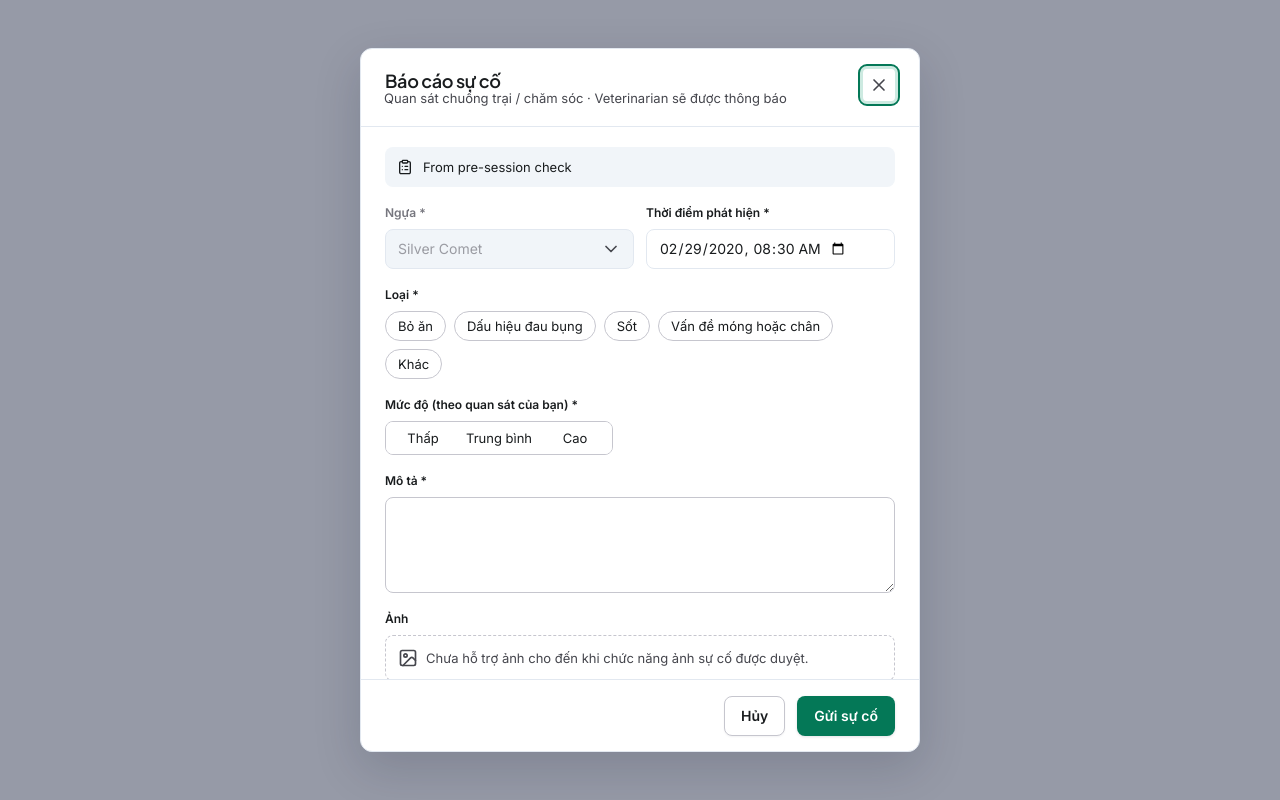
Test case: IncidentReportModal › rejects context ID 0
Click the button "Vấn đề móng hoặc chân" at (746,326), box [658,311,833,341]
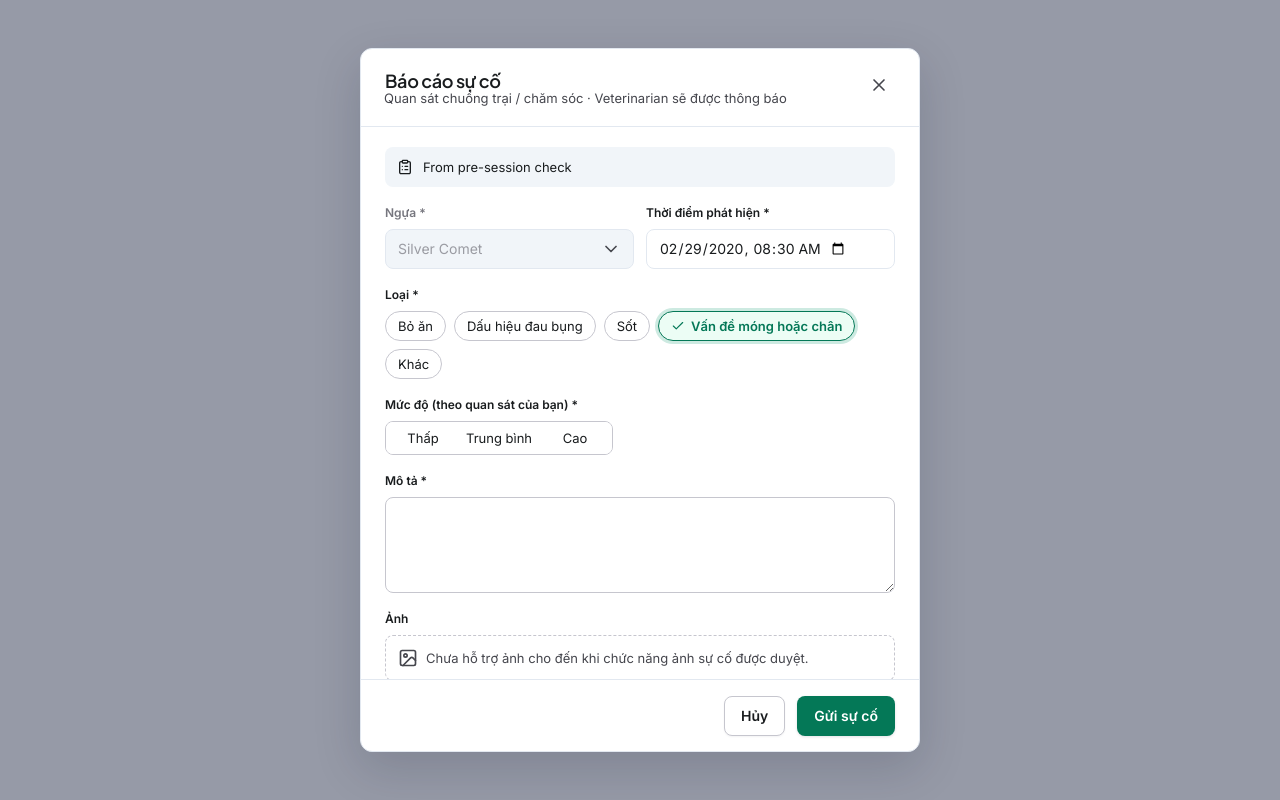
Click the button "Trung bình" at (499,438), box [460,422,538,454]
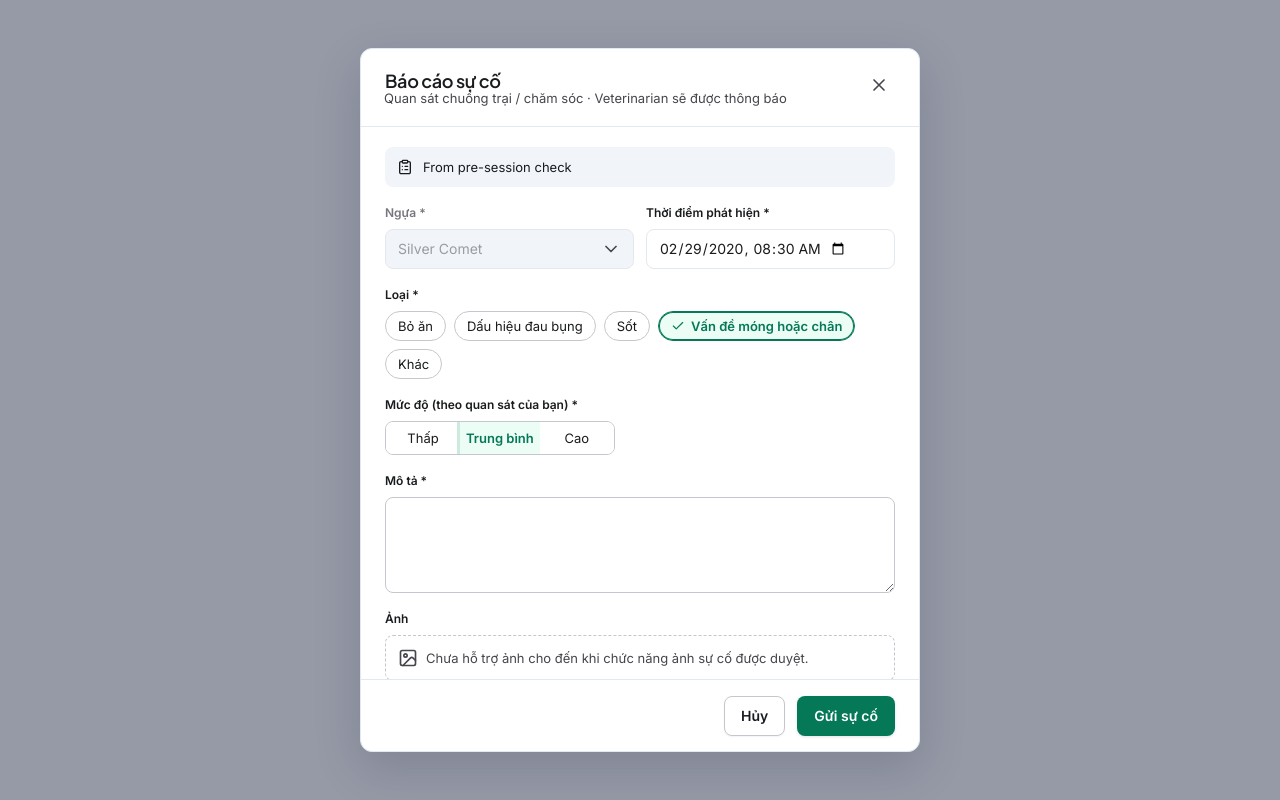
Type "Swelling on left hind fetlock." into the text box labelled "Mô tả *" at (640,545), box [385,497,895,593]
(page scrolled)
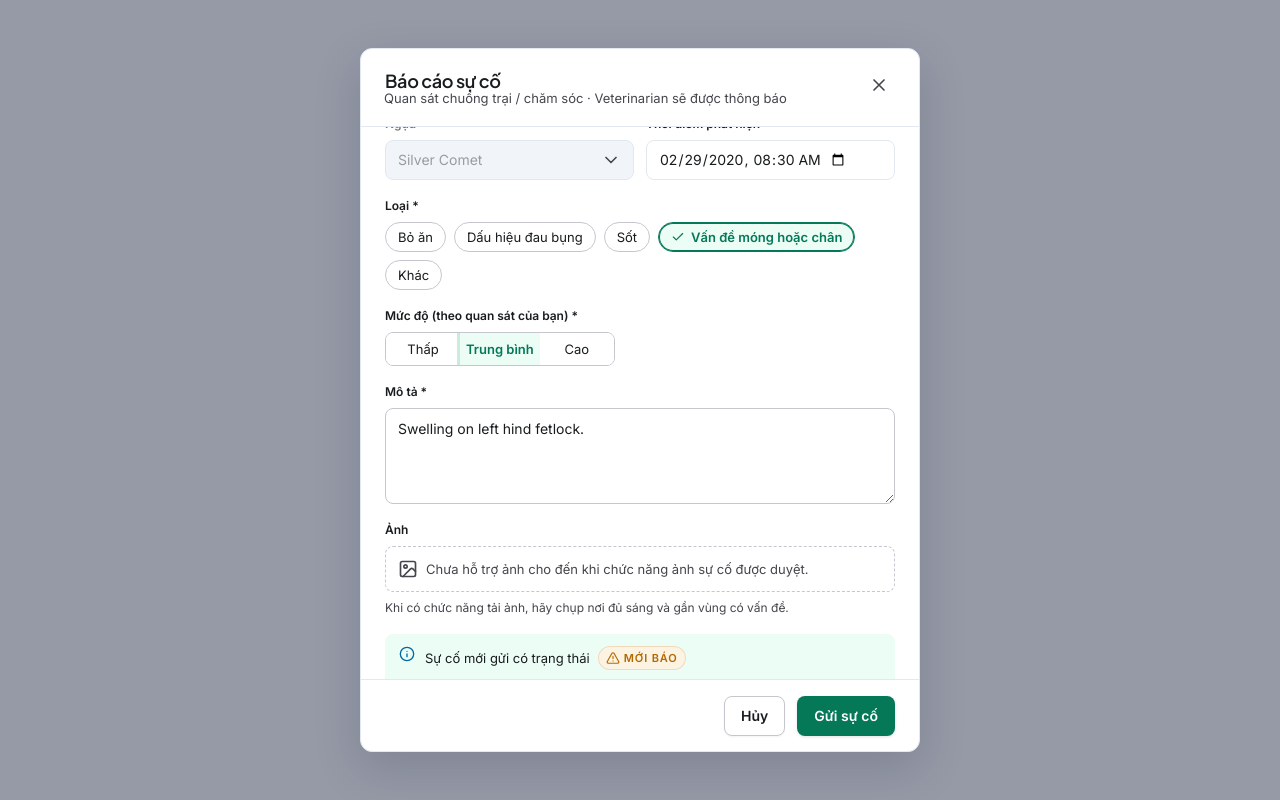
Submit the form, box [385,58,895,748]
(page scrolled)
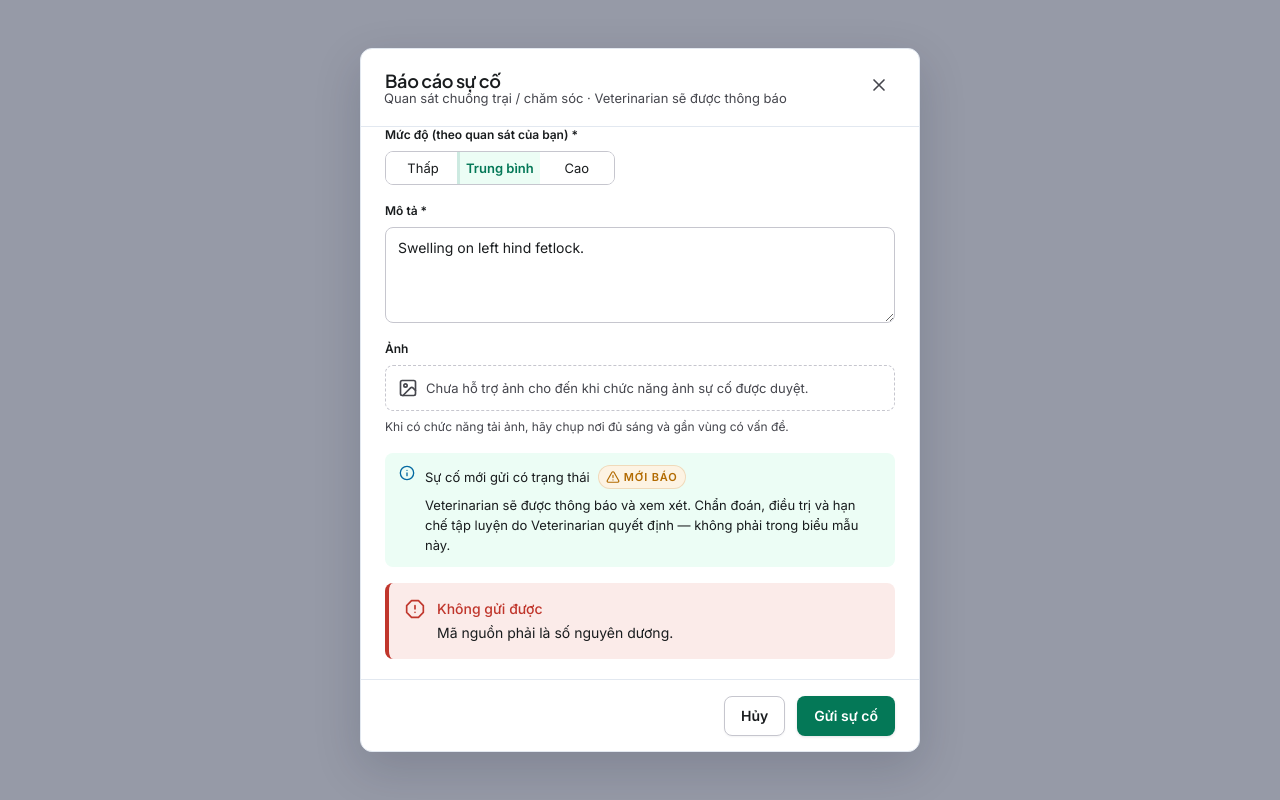
Expected: the message shows "Mã nguồn phải là số nguyên dương.", [437,624,673,641]
